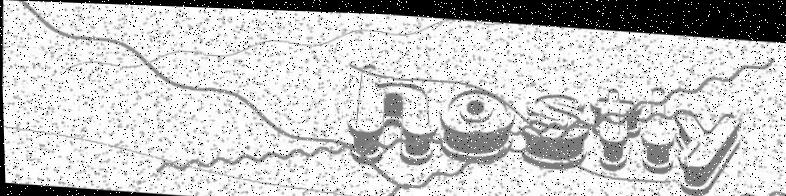h: (346, 56, 441, 161)
i: (636, 75, 676, 167)
o: (437, 76, 519, 160)
s: (517, 82, 592, 168)
t: (587, 81, 642, 169)
y: (667, 101, 744, 193)
